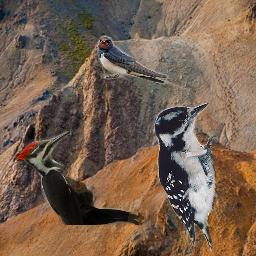Swallow: (97, 35, 189, 90)
Woodpecker: (8, 131, 146, 225), (154, 103, 220, 254)
